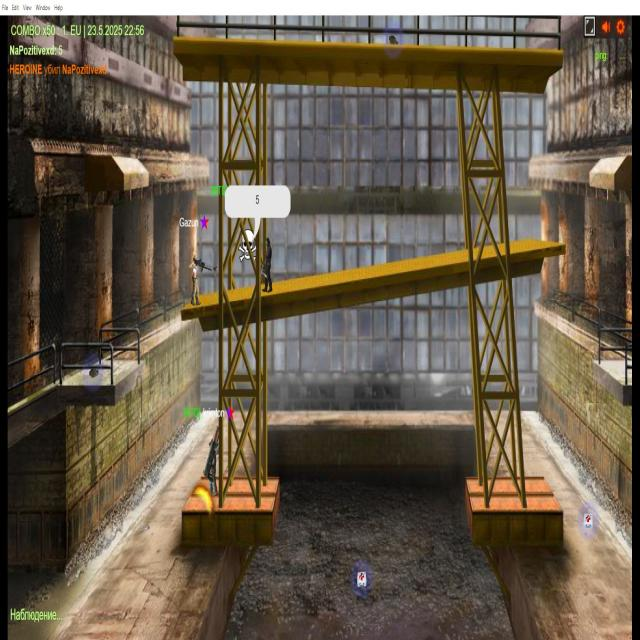enemy: (206, 436, 223, 502), (188, 250, 204, 312), (261, 236, 276, 296)
